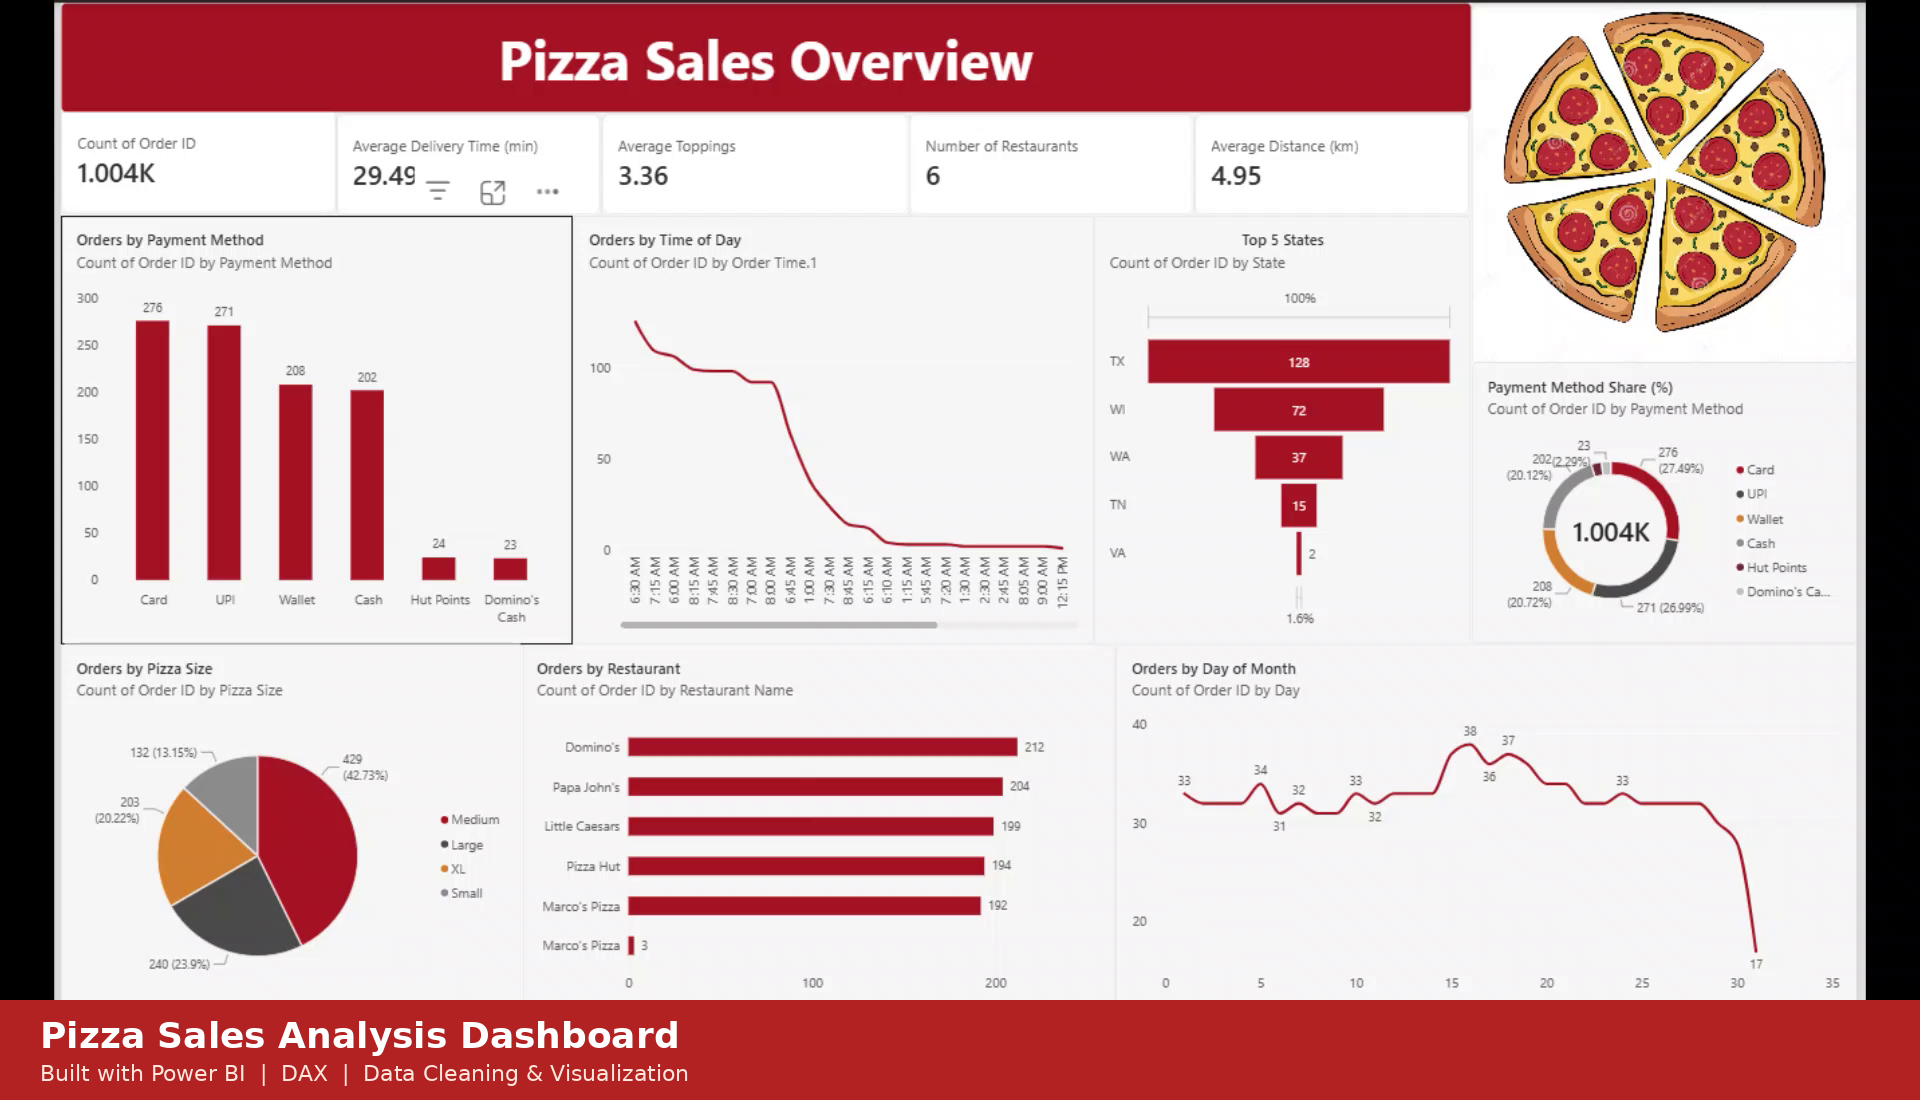

What the dashboard file says about the page in this screenshot:
{"tool":"powerbi","page":{"name":"Full Dashboard","canvas":[1920,1080],"ordinal":0},"visuals":[{"type":"lineChart","title":"Orders by Time of Day","fields":{"Y":["CountNonNull(Sheet1.Order ID)"],"Category":["Sheet1.Order Time.1"]},"box":[549,226.9,556.3,458.7],"z":0},{"type":"lineChart","title":"Orders by Day of Month","fields":{"Y":["CountNonNull(Sheet1.Order ID)"],"Category":["Date tabel.Date.Variation.Date Hierarchy.Day"]},"box":[1127.2,685.6,792.9,395.3],"z":1000},{"type":"clusteredBarChart","title":"Orders by Restaurant","fields":{"Category":["Sheet1.Restaurant Name"],"Y":["CountNonNull(Sheet1.Order ID)"]},"box":[492.8,685.6,634.4,395.3],"z":2000},{"type":"cardVisual","fields":{"Data":["CountNonNull(Sheet1.Order ID)"]},"box":[0,112.2,295.2,114.7],"z":3000},{"type":"cardVisual","fields":{"Data":["Avg(Sheet1.Restaurant Avg Time)"]},"box":[295.2,117.1,283,109.8],"z":4000},{"type":"clusteredColumnChart","title":"Orders by Payment Method","fields":{"Category":["Sheet1.Payment Method"],"Y":["CountNonNull(Sheet1.Order ID)"]},"box":[0,226.9,549,458.7],"z":5000},{"type":"pieChart","title":"Orders by Pizza Size","fields":{"Category":["Sheet1.Pizza Size"],"Y":["CountNonNull(Sheet1.Order ID)"]},"box":[0,685.6,495.3,395.3],"z":6000},{"type":"donutChart","title":"Payment Method Share (%)","fields":{"Category":["Sheet1.Payment Method"],"Y":["CountNonNull(Sheet1.Order ID)"]},"box":[1507.8,385.5,412.3,300.1],"z":7000},{"type":"textbox","box":[0,0,1507.8,117.1],"z":8000},{"type":"image","box":[1507.8,0,412.3,385.5],"z":9000},{"type":"funnel","title":"Top 5 States","fields":{"Category":["Sheet1.State"],"Y":["CountNonNull(Sheet1.Order ID)"]},"box":[1105.2,226.9,402.6,458.7],"z":10000},{"type":"cardVisual","fields":{"Data":["Avg(Sheet1.Toppings Count)"]},"box":[578.2,117.1,329.4,109.8],"z":10001},{"type":"cardVisual","fields":{"Data":["Count(Sheet1.Restaurant Name)"]},"box":[907.6,117.1,305,109.8],"z":10002},{"type":"cardVisual","fields":{"Data":["Avg(Sheet1.Distance (km))"]},"box":[1212.6,117.1,295.2,109.8],"z":10003}]}

Visuals, with their boxes in screenshot pixels (x1, y1, x2, y2), scaled from the page's 1920x1080 canvas onto the 1920x1100 screenshot:
"Orders by Time of Day" lineChart: 549 231 1105 698
"Orders by Day of Month" lineChart: 1127 698 1919 1099
"Orders by Restaurant" clusteredBarChart: 493 698 1127 1099
cardVisual - CountNonNull(Sheet1.Order ID): 0 114 295 231
cardVisual - Avg(Sheet1.Restaurant Avg Time): 295 119 578 231
"Orders by Payment Method" clusteredColumnChart: 0 231 549 698
"Orders by Pizza Size" pieChart: 0 698 495 1099
"Payment Method Share (%)" donutChart: 1508 393 1919 698
textbox: 0 0 1508 119
image: 1508 0 1919 393
"Top 5 States" funnel: 1105 231 1508 698
cardVisual - Avg(Sheet1.Toppings Count): 578 119 908 231
cardVisual - Count(Sheet1.Restaurant Name): 908 119 1213 231
cardVisual - Avg(Sheet1.Distance (km)): 1213 119 1508 231
